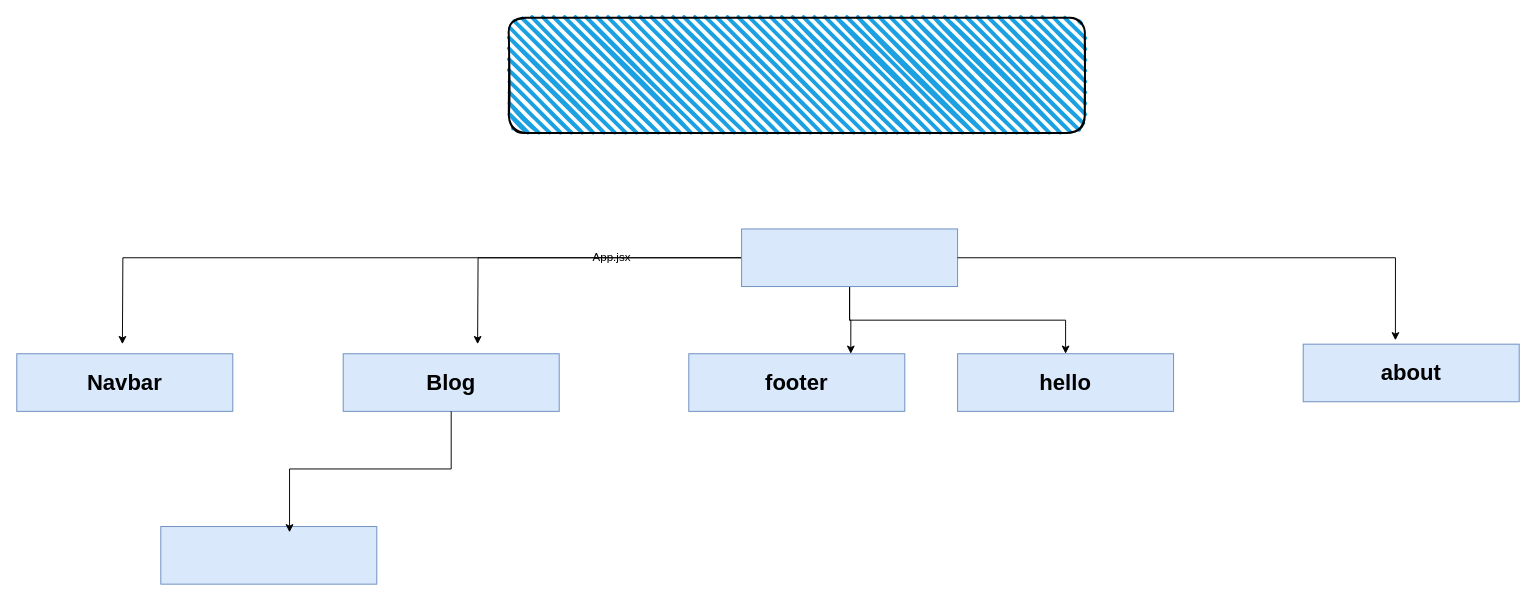
This 1536x601 diagram has some shape labels left out. Here are the shapes that lost their labels. From the top down, the centre of each, then its label:
At (x=796, y=74): "React components tree".
At (x=849, y=257): "Root Component".
At (x=268, y=555): "Impression".
